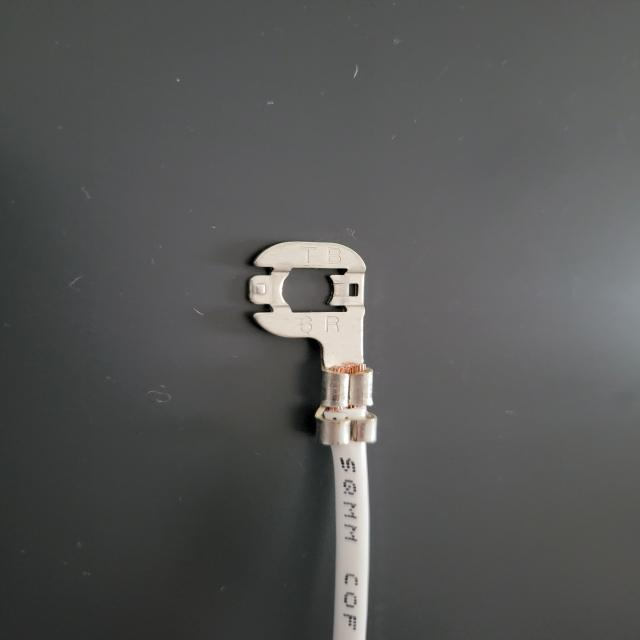good: (6, 0, 640, 626)
